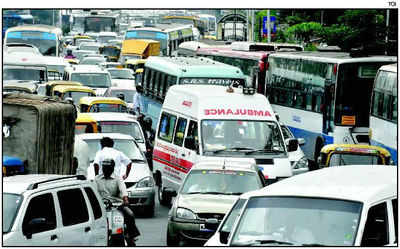ambulance: (154, 78, 297, 189)
